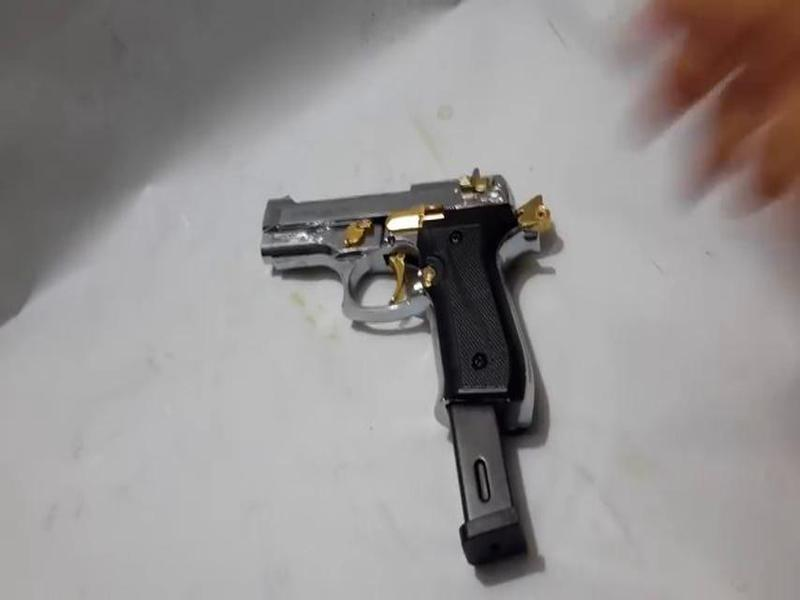Pistola: (230, 168, 617, 458)
